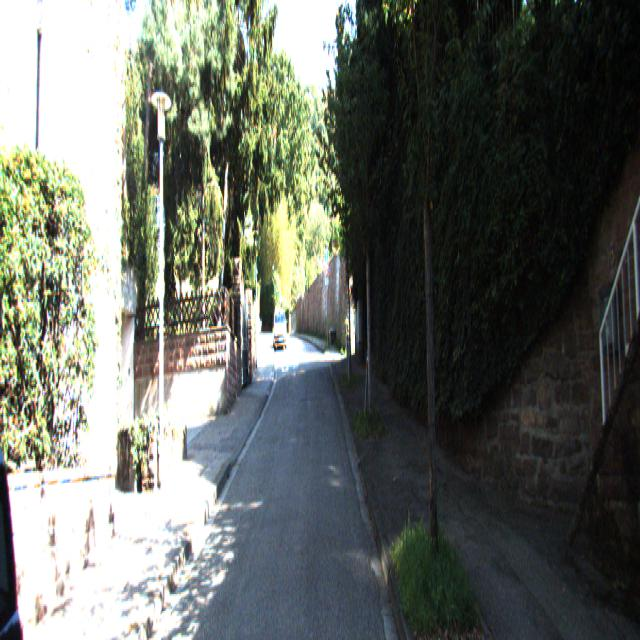Car: (273, 309, 287, 355)
